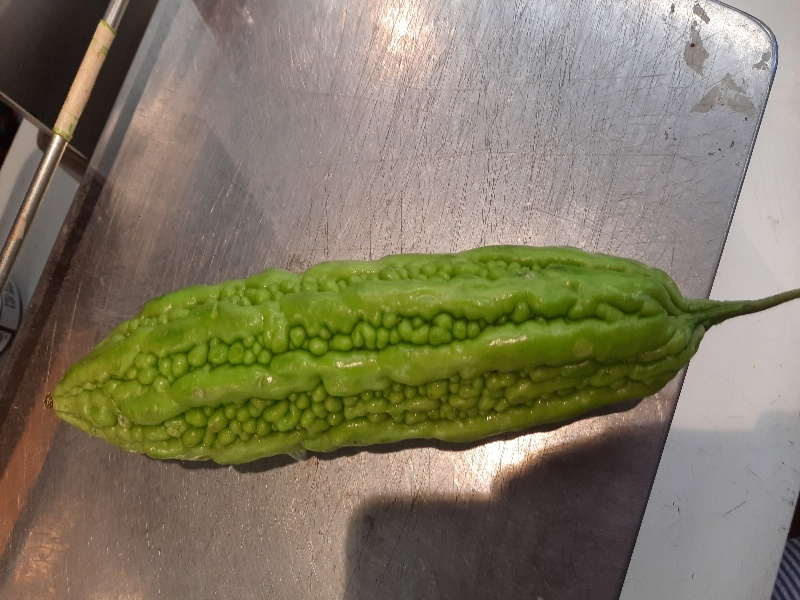vege: (40, 246, 773, 464)
